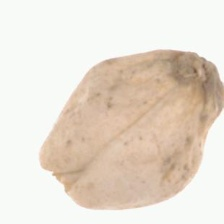L1: (174, 48, 222, 101), (39, 159, 84, 206)
L2: (39, 47, 222, 210)
